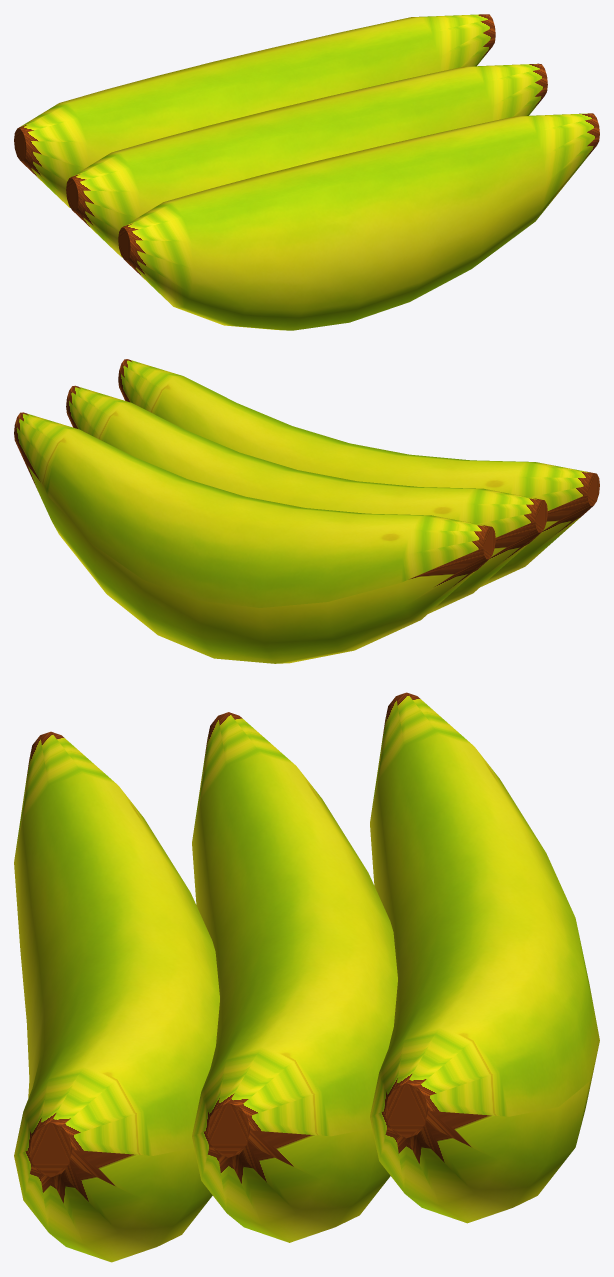
The model's file is plantain_bunch-D80KAJg4.glb.
3 views of the same model, one above another, from view 1: azimuth 30°, elevation 25°; view 2: azimuth 150°, elevation 25°; view 3: azimuth 270°, elevation 25° (orthographic). The views are drawn at different scales.
Visible parts, largest first — view 1: HI_plantain_bunch; view 2: HI_plantain_bunch; view 3: HI_plantain_bunch.
Part boxes in pixels (left/top/right/bottom): HI_plantain_bunch: left=14, top=14, right=599, bottom=330; HI_plantain_bunch: left=14, top=359, right=599, bottom=663; HI_plantain_bunch: left=14, top=692, right=599, bottom=1262.
Bounding box in the file's own units: 1.5 × 0.6 × 0.95.
1 material, 1 textured.
